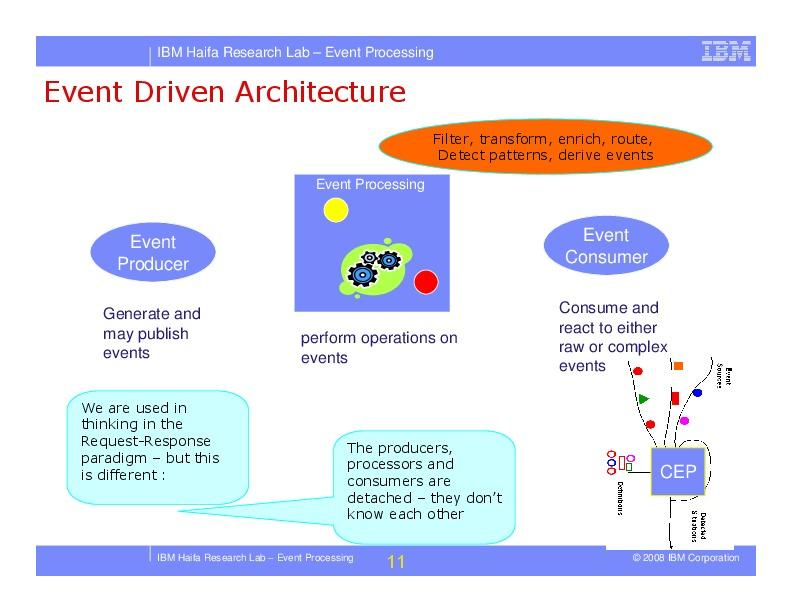title: (37, 69, 414, 114)
